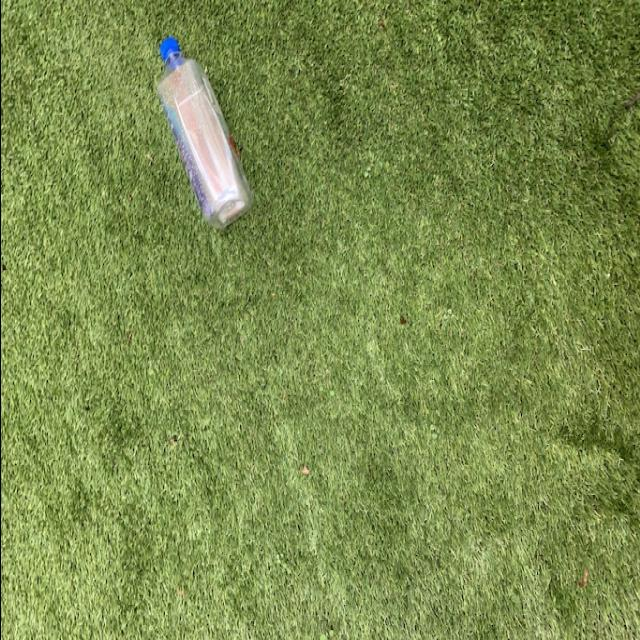PET: (148, 38, 249, 236)
